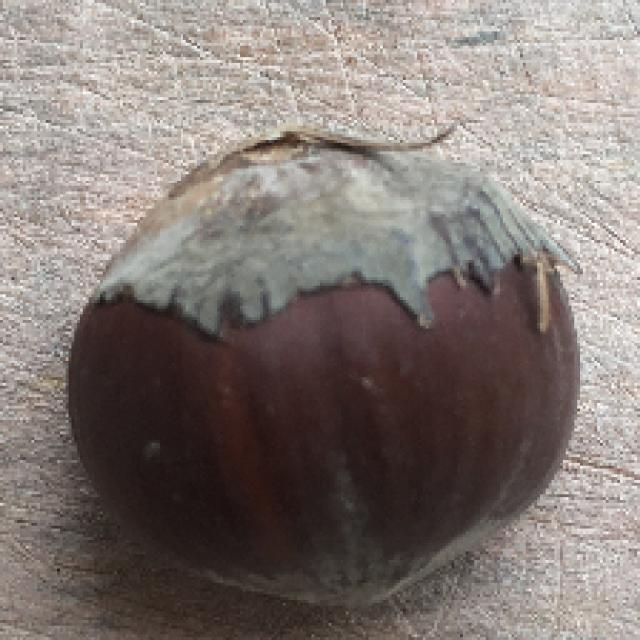damagedHazelnut: (57, 132, 577, 617)
